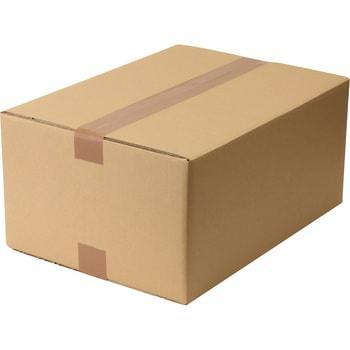box: (5, 41, 346, 306)
